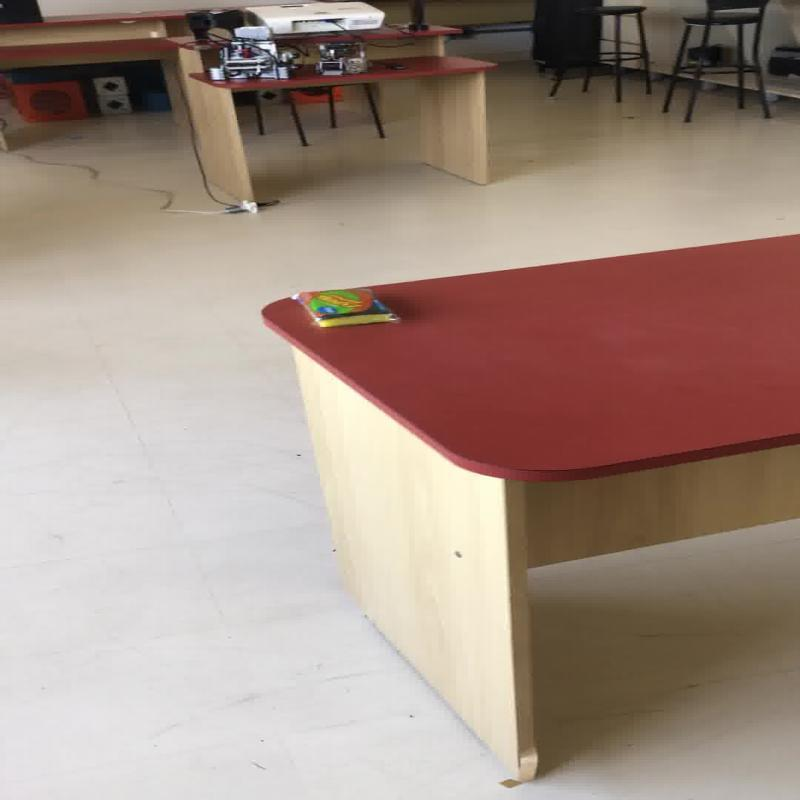sponge: (288, 286, 399, 327)
